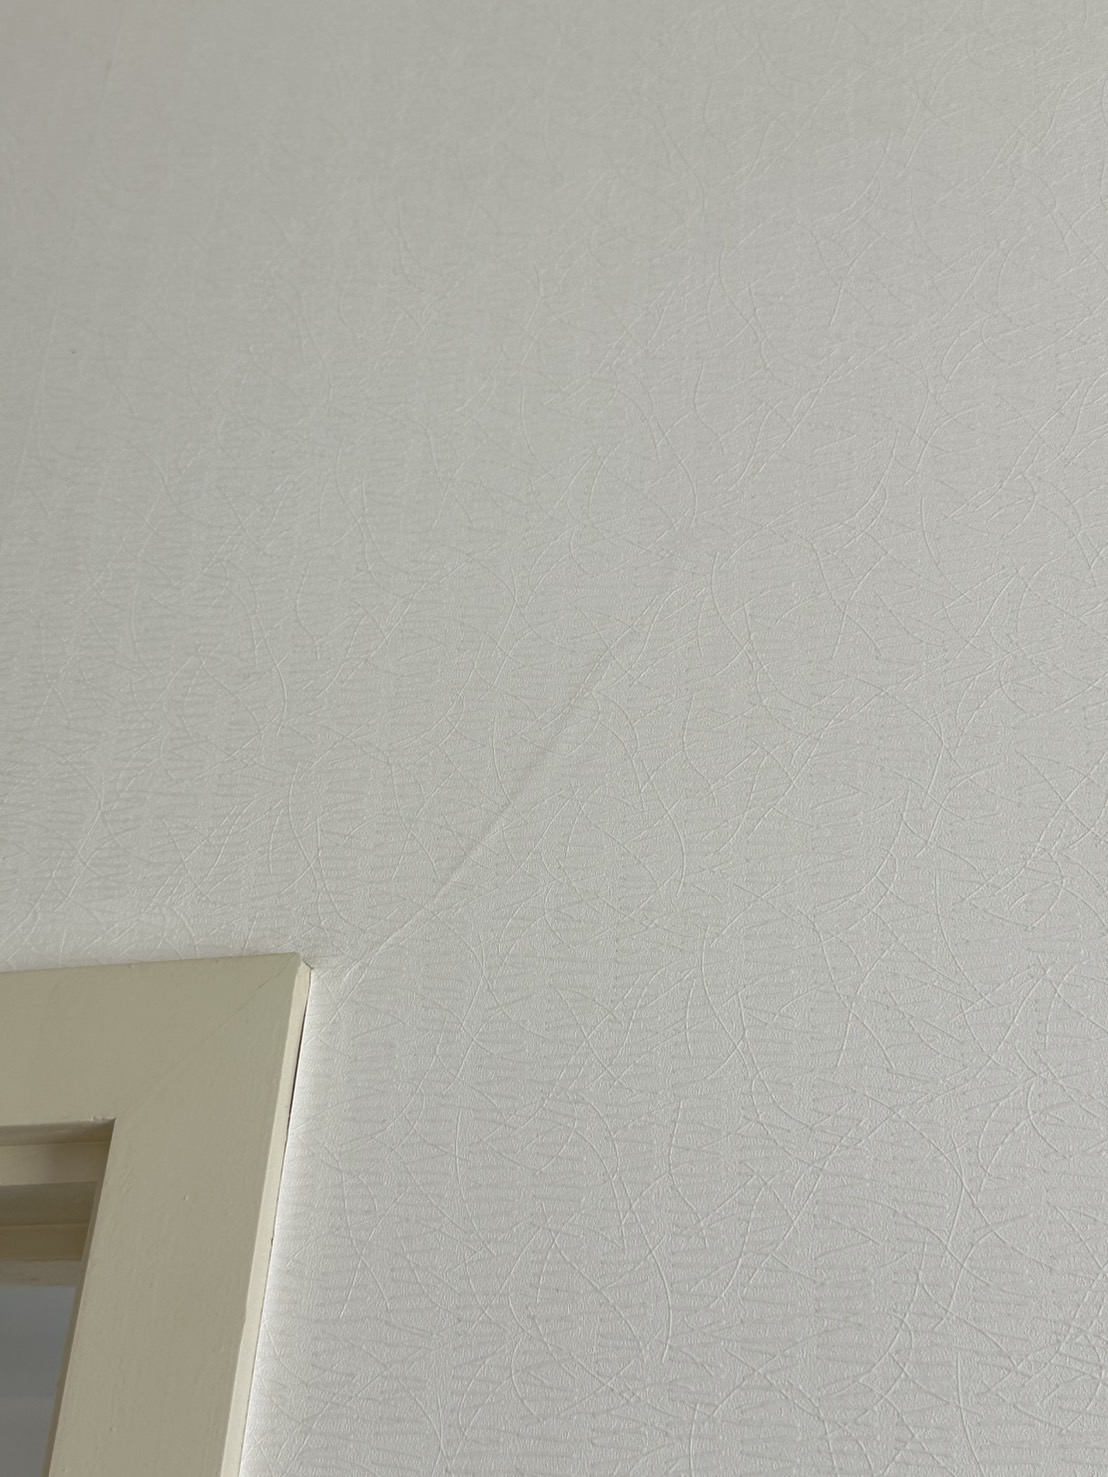Low: (343, 512, 725, 997)
